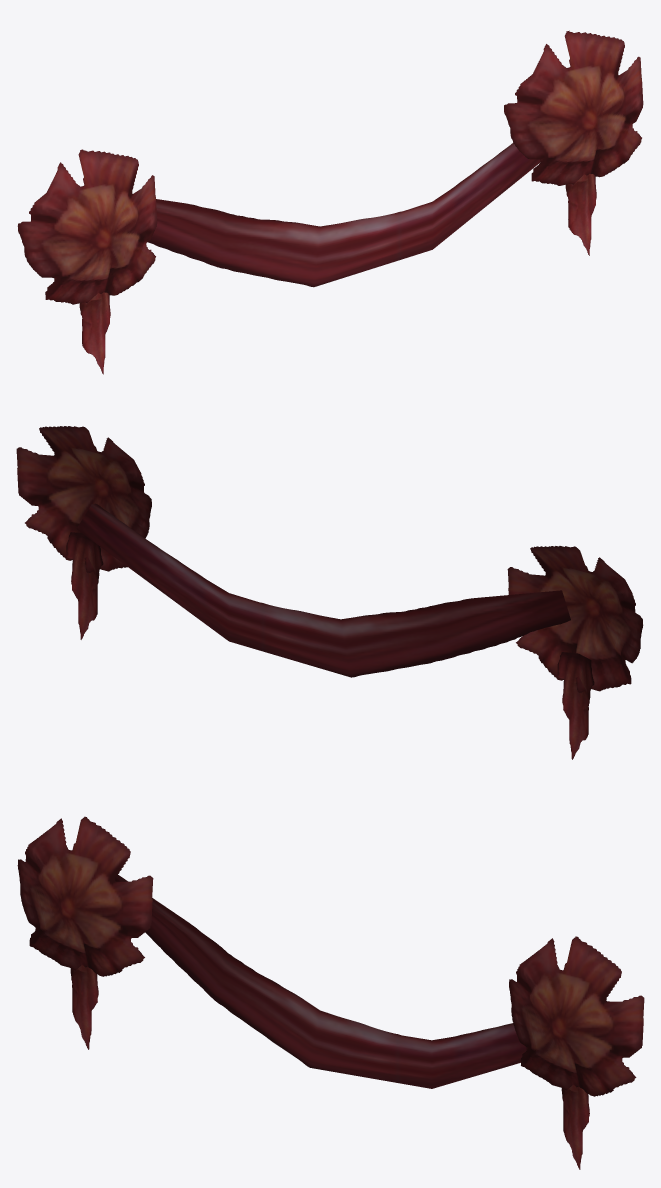
File: zc_suzhou_honghua01.FBX
3 renders of one model, top to bottom at view 1: azimuth 30°, elevation 25°; view 2: azimuth 150°, elevation 25°; view 3: azimuth 330°, elevation 25°, orthographic.
Visible parts, largest first — view 1: zc_suzhou_honghua01; view 2: zc_suzhou_honghua01; view 3: zc_suzhou_honghua01.
Part boxes in pixels (box(x1,y1,x2,y2)): zc_suzhou_honghua01: box(17, 30, 643, 374); zc_suzhou_honghua01: box(16, 426, 643, 759); zc_suzhou_honghua01: box(17, 816, 644, 1169).
Bounding box in the file's own units: 137 × 47.1 × 11.65.
